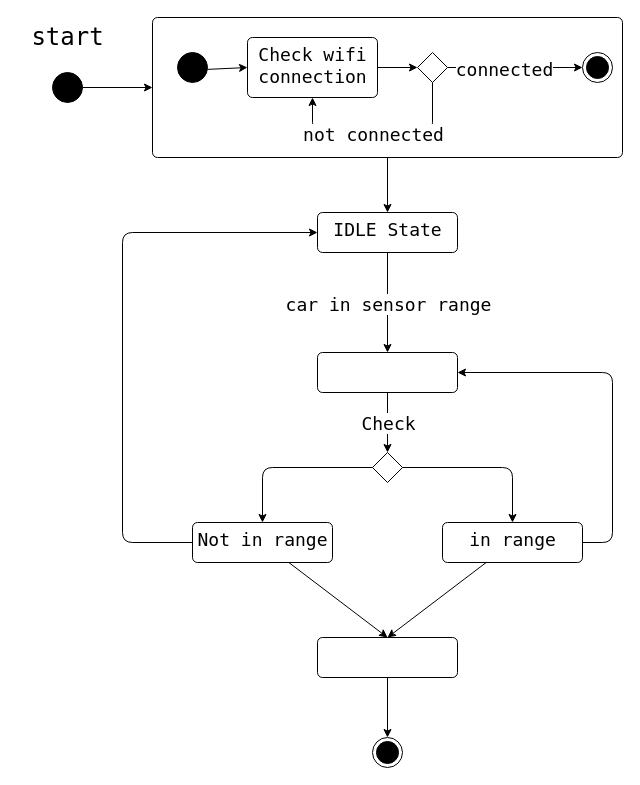
Image size: 640x785. Some labels were removed from this diagram. The centre of each missing label's shape, as x and y in pixels:
"detected" belongs at pixel 387 372.
"turn off" belongs at pixel 387 657.
